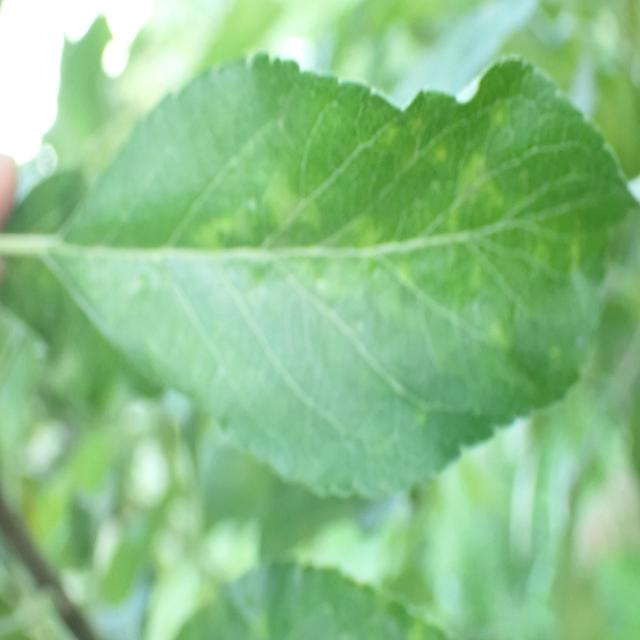scab: (170, 98, 616, 380)
